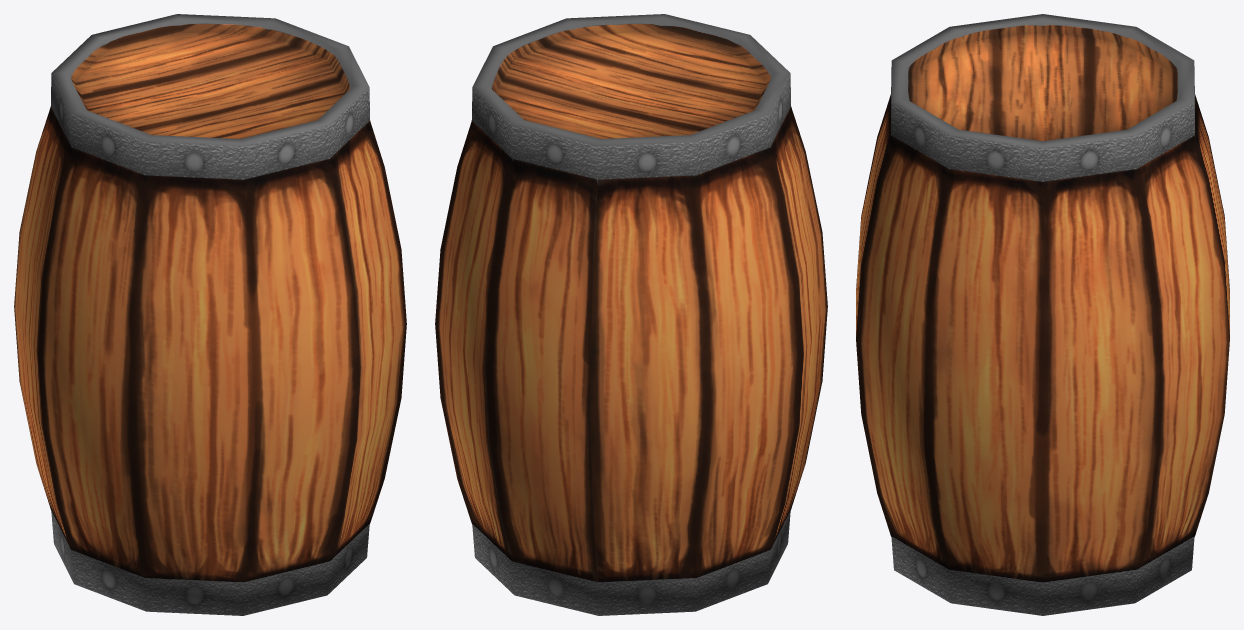
Rendered from Ascent_Wooden_Barrel.fbx.
3 views of the same model, side by side, from view 1: azimuth 30°, elevation 25°; view 2: azimuth 150°, elevation 25°; view 3: azimuth 270°, elevation 25° (orthographic).
Parts seen in each view (by area): view 1: barrel:barrel_low2:barrel_low; view 2: barrel:barrel_low2:barrel_low; view 3: barrel:barrel_low2:barrel_low.
Boxes of the visible parts, x1,y1,x2,y2 form: barrel:barrel_low2:barrel_low: (14, 14, 406, 615); barrel:barrel_low2:barrel_low: (435, 14, 827, 615); barrel:barrel_low2:barrel_low: (856, 14, 1229, 615).
Bounding box in the file's own units: 0.772 × 1.02 × 0.7343.
